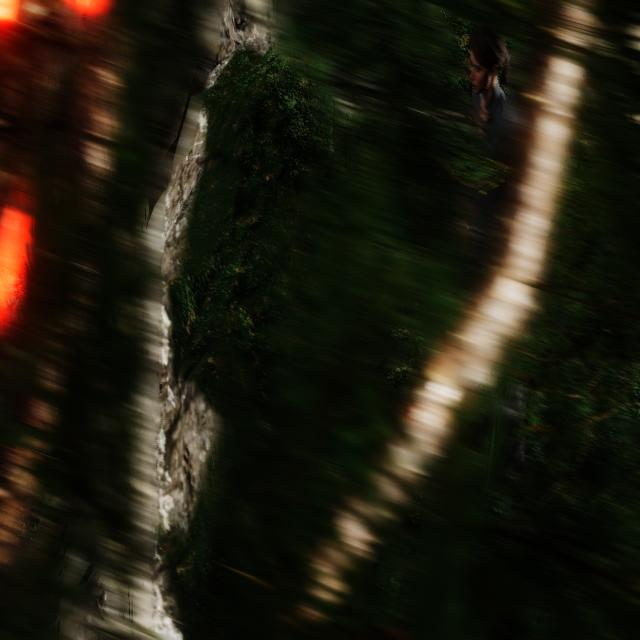Human: (458, 21, 509, 198)
